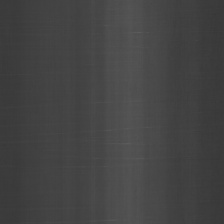waist_folding: (96, 45, 158, 193)
